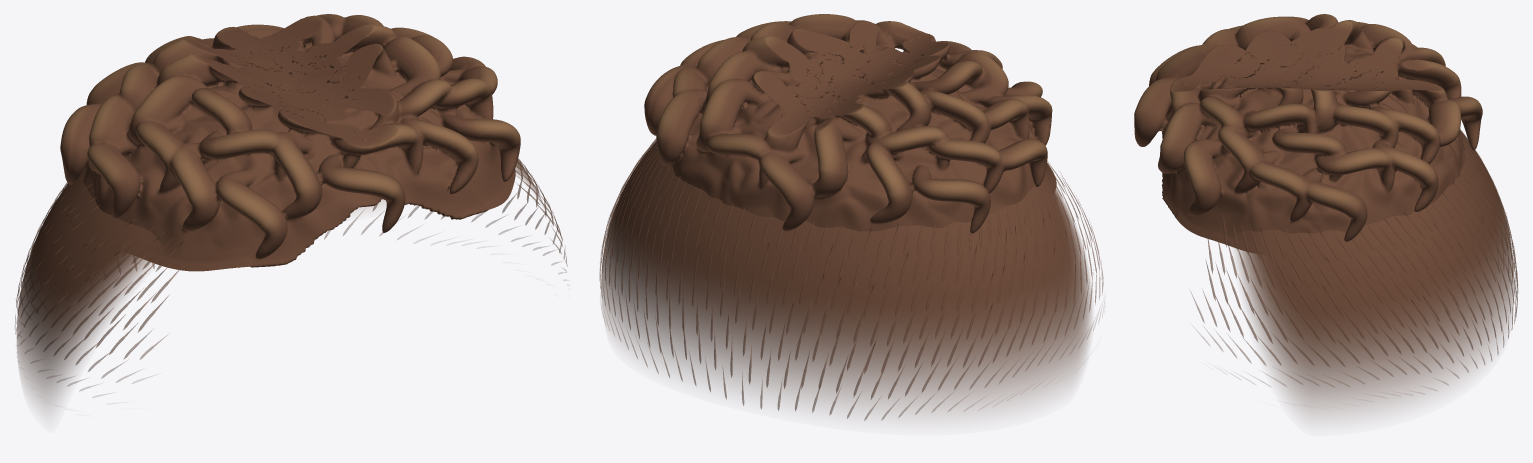
File: Masculine-curly-top-cowboy259-hair-ombre.glb
3 views of the same model, side by side, from view 1: azimuth 30°, elevation 25°; view 2: azimuth 150°, elevation 25°; view 3: azimuth 270°, elevation 25° (orthographic). The views are drawn at different scales.
Visible parts, largest first — view 1: 226 hair / Hair252 / sculpted curl groups, 226 hair / Hair258 / smooth side fade, 226 hair / Hair259 / directional fade marks214; view 2: 226 hair / Hair258 / smooth side fade, 226 hair / Hair252 / sculpted curl groups, 226 hair / Hair259 / directional fade marks214; view 3: 226 hair / Hair252 / sculpted curl groups, 226 hair / Hair258 / smooth side fade, 226 hair / Hair259 / directional fade marks214.
Boxes of the visible parts, bbox=[...] form: 226 hair / Hair252 / sculpted curl groups: bbox=[60, 14, 520, 271]; 226 hair / Hair258 / smooth side fade: bbox=[17, 80, 546, 410]; 226 hair / Hair259 / directional fade marks214: bbox=[15, 153, 567, 397]; 226 hair / Hair258 / smooth side fade: bbox=[601, 79, 1091, 415]; 226 hair / Hair252 / sculpted curl groups: bbox=[644, 14, 1056, 233]; 226 hair / Hair259 / directional fade marks214: bbox=[599, 139, 1104, 420]; 226 hair / Hair252 / sculpted curl groups: bbox=[1134, 14, 1482, 252]; 226 hair / Hair258 / smooth side fade: bbox=[1234, 79, 1514, 417]; 226 hair / Hair259 / directional fade marks214: bbox=[1191, 129, 1518, 393].
Size of the model in its own units: 0.9743 by 0.6416 by 0.7572.
